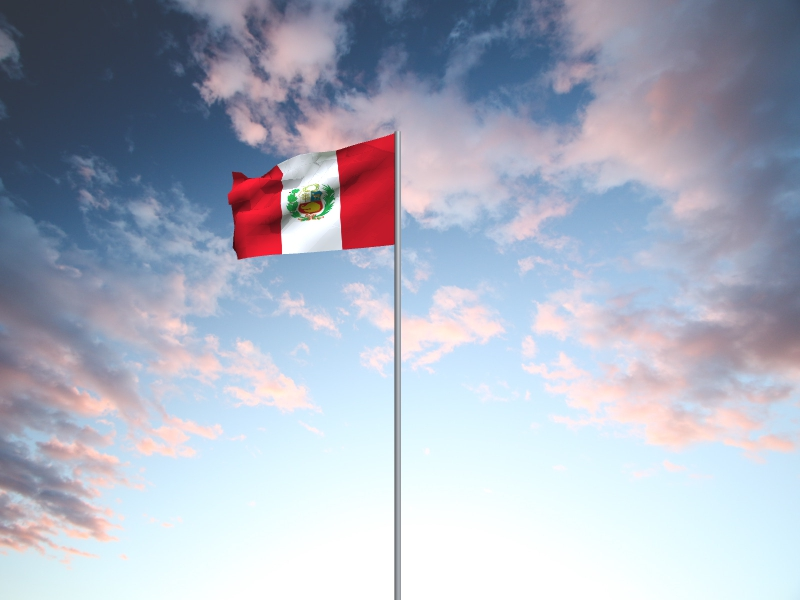pe: (227, 134, 394, 261)
